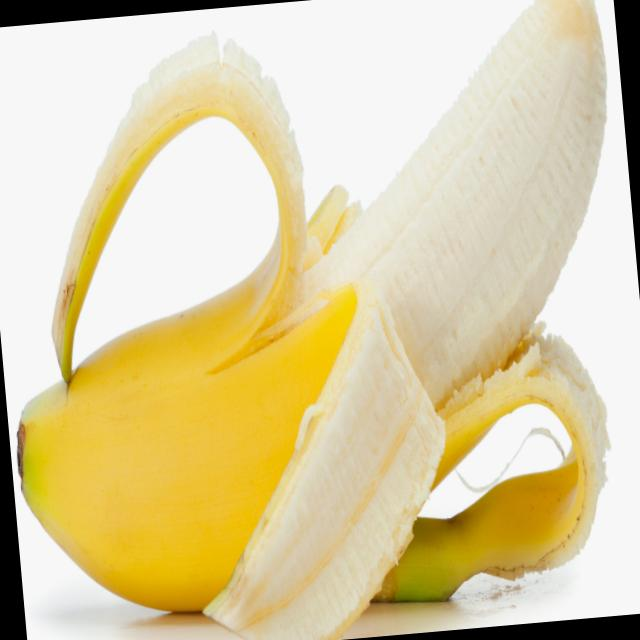banana: (4, 0, 640, 616)
